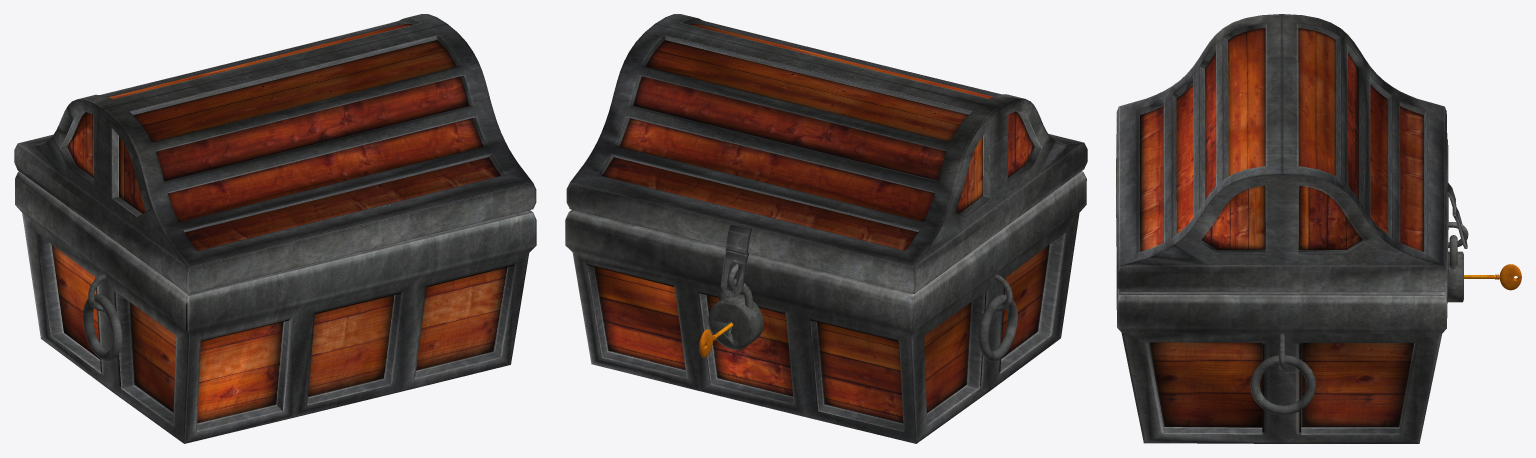
The model's file is Chest gold closed.FBX.
The picture shows the model from 3 angles, left to right: view 1: azimuth 30°, elevation 25°; view 2: azimuth 150°, elevation 25°; view 3: azimuth 270°, elevation 25°; orthographic projection. The views are drawn at different scales.
Parts seen in each view (by area): view 1: chest gold closed; view 2: chest gold closed; view 3: chest gold closed.
Boxes of the visible parts, x1=… form: chest gold closed: x1=14, y1=14, x2=536, y2=443; chest gold closed: x1=565, y1=14, x2=1087, y2=443; chest gold closed: x1=1116, y1=14, x2=1521, y2=443.
Bounding box in the file's own units: 1.87 × 1.84 × 1.37.
